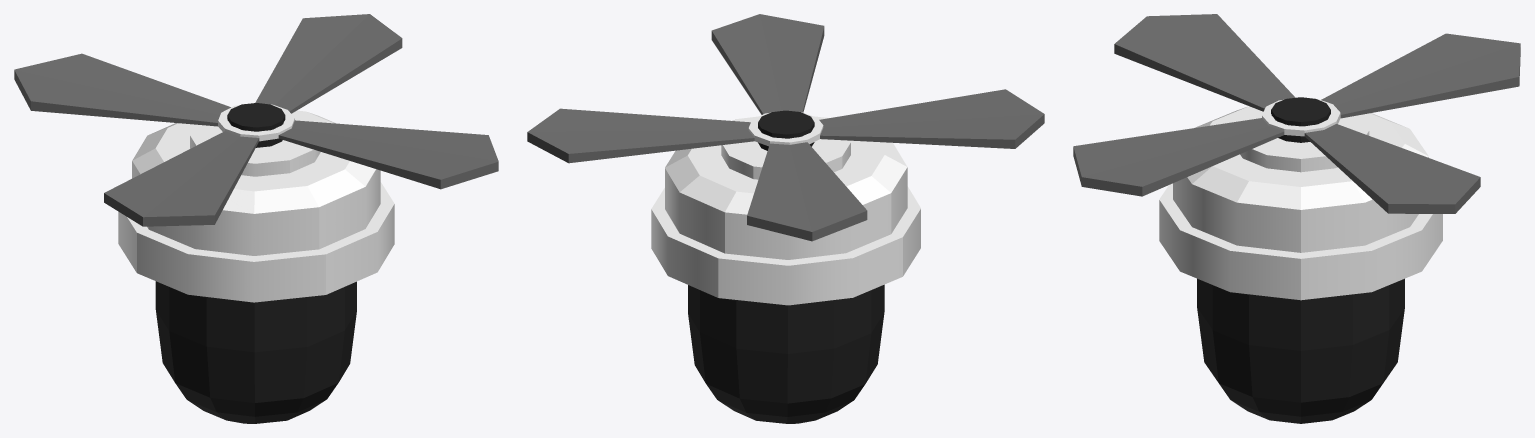
File: enemy4.fbx
3 views of the same model, side by side, from view 1: azimuth 30°, elevation 25°; view 2: azimuth 150°, elevation 25°; view 3: azimuth 270°, elevation 25° (orthographic). The views are drawn at different scales.
Visible parts, largest first — view 1: body, propera1; view 2: body, propera1; view 3: body, propera1.
Boxes of the visible parts, x1,y1,x2,y2 form: body: (118,103,394,423); propera1: (14,14,498,226); body: (651,110,920,423); propera1: (527,14,1044,241); body: (1159,97,1442,423); propera1: (1073,14,1520,213).
Bounding box in the file's own units: 113 × 81.89 × 112.
Materials: 3 (3 with a texture image).
